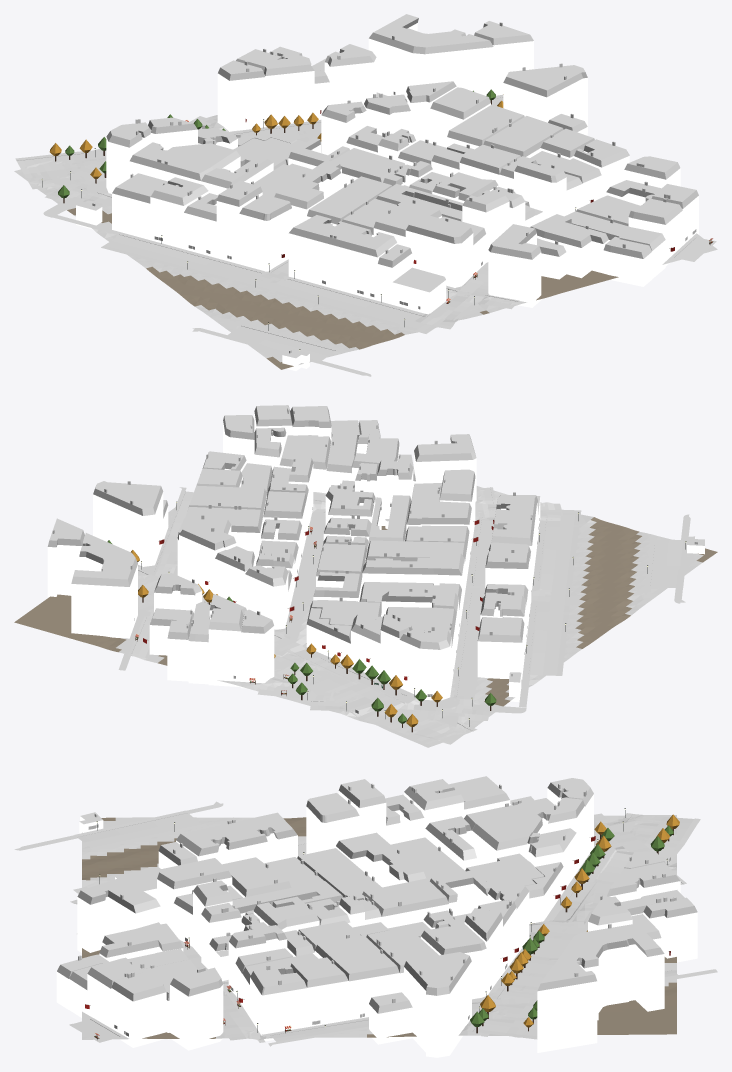
File: zone_D1.glb
3 renders of one model, top to bottom at view 1: azimuth 30°, elevation 25°; view 2: azimuth 150°, elevation 25°; view 3: azimuth 270°, elevation 25°, orthographic. The views are drawn at different scales.
Visible parts, largest first — view 1: zone_D1_batiments, zone_D1_sol_NOCOL, zone_D1_terrain, zone_D1_decor_NOCOL; view 2: zone_D1_batiments, zone_D1_sol_NOCOL, zone_D1_terrain, zone_D1_decor_NOCOL, zone_D1_commune_NOCOL; view 3: zone_D1_batiments, zone_D1_sol_NOCOL, zone_D1_terrain, zone_D1_decor_NOCOL, zone_D1_commune_NOCOL.
Part boxes in pixels (x1=…): zone_D1_batiments: x1=76, y1=14, x2=698, y2=370; zone_D1_sol_NOCOL: x1=15, y1=92, x2=716, y2=376; zone_D1_terrain: x1=14, y1=115, x2=717, y2=369; zone_D1_decor_NOCOL: x1=41, y1=89, x2=576, y2=350; zone_D1_batiments: x1=47, y1=405, x2=704, y2=701; zone_D1_sol_NOCOL: x1=118, y1=487, x2=690, y2=747; zone_D1_terrain: x1=14, y1=486, x2=717, y2=744; zone_D1_decor_NOCOL: x1=107, y1=501, x2=686, y2=732; zone_D1_commune_NOCOL: x1=134, y1=507, x2=539, y2=713; zone_D1_batiments: x1=56, y1=776, x2=697, y2=1057; zone_D1_sol_NOCOL: x1=14, y1=801, x2=717, y2=1046; zone_D1_terrain: x1=82, y1=815, x2=676, y2=1040; zone_D1_decor_NOCOL: x1=96, y1=808, x2=679, y2=1033; zone_D1_commune_NOCOL: x1=85, y1=824, x2=670, y2=1039.
Size of the model in its own units: 226 by 35.46 by 252.
